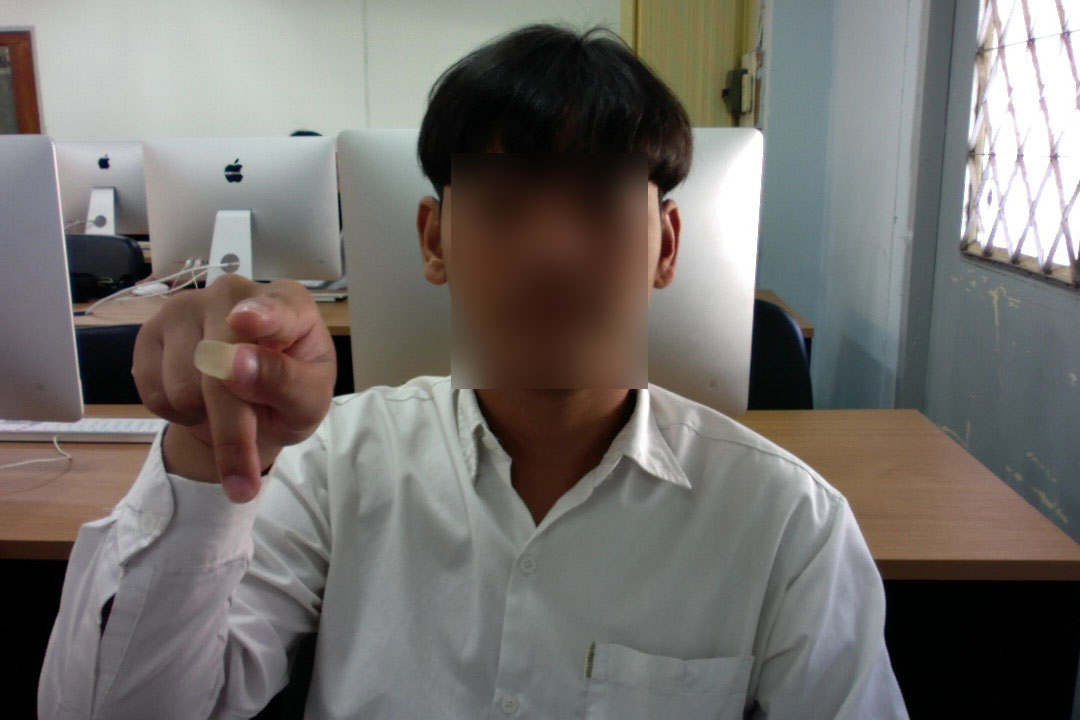por: (126, 273, 346, 506)
